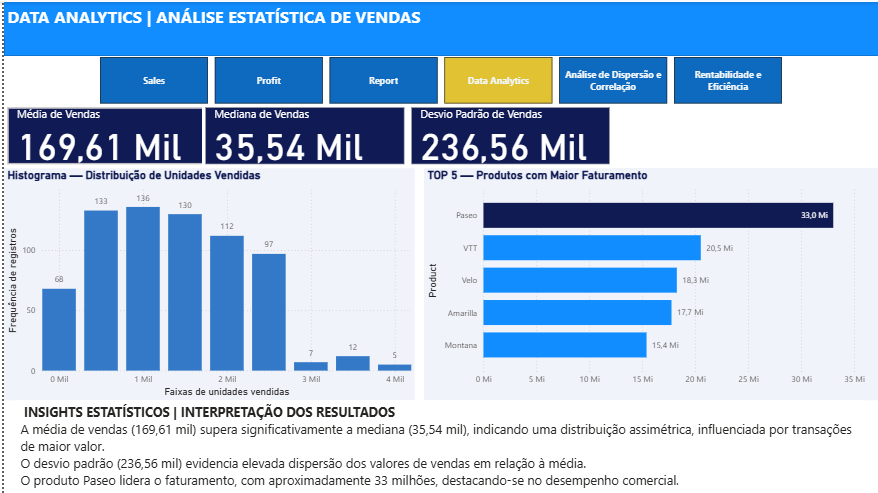

Layout of this report page (visuals, bound fields, positions):
{"tool":"powerbi","page":{"name":"Data Analytics","canvas":[1280,720],"ordinal":3},"visuals":[{"type":"clusteredColumnChart","title":"Histograma — Distribuição de Unidades Vendidas","fields":{"Category":["financials.Units Sold (compartimentos)"],"Y":["CountNonNull(financials.Units Sold (compartimentos))"]},"box":[0,242.9,601.5,339.5],"z":0},{"type":"clusteredBarChart","title":"TOP 5 — Produtos com Maior Faturamento","fields":{"Category":["financials.Product"],"Y":["Sum(financials. Sales)"]},"box":[614.6,242.9,665.9,339.5],"z":1000},{"type":"cardVisual","fields":{"Data":["financials.Média de Vendas"]},"box":[0,149.3,301.5,93.7],"z":2000},{"type":"cardVisual","fields":{"Data":["financials.Mediana de Vendas"]},"box":[289.8,149.3,301.5,93.7],"z":3000},{"type":"cardVisual","fields":{"Data":["financials.Desvio Padrão de Vendas"]},"box":[591.2,149.3,300,93.7],"z":4000},{"type":"shape","box":[0,0,1280.5,79],"z":5000},{"type":"textbox","box":[0,0,1280.5,49.8],"z":6000},{"type":"textbox","box":[19.4,582.8,1241.3,137.3],"z":7000},{"type":"pageNavigator","box":[140.5,80.5,999.5,68.8],"z":7001}]}

Visuals, with their boxes in screenshot pixels (x1, y1, x2, y2), scaled from the page's 1280x720 canvas onto the 878x493 screenshot:
"Histograma — Distribuição de Unidades Vendidas" clusteredColumnChart: 0 166 413 399
"TOP 5 — Produtos com Maior Faturamento" clusteredBarChart: 422 166 877 399
cardVisual - financials.Média de Vendas: 0 102 207 166
cardVisual - financials.Mediana de Vendas: 199 102 406 166
cardVisual - financials.Desvio Padrão de Vendas: 406 102 611 166
shape: 0 0 877 54
textbox: 0 0 877 34
textbox: 13 399 865 492
pageNavigator: 96 55 782 102
